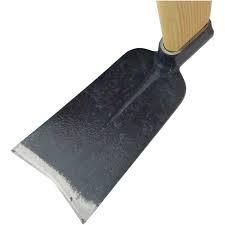HOUE: (9, 0, 225, 225)
